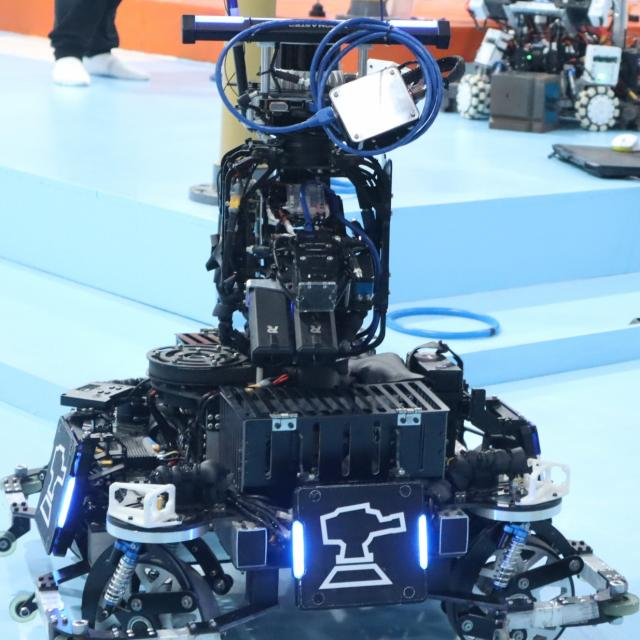Bs: (289, 493, 429, 605), (37, 434, 80, 536)
